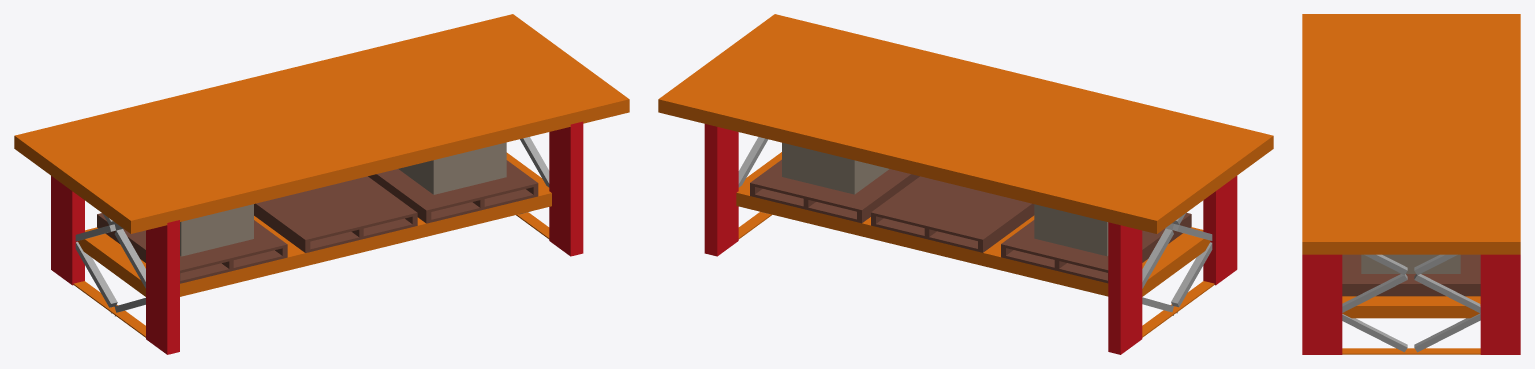
File: Rackes_SmalSmal 1.fbx
3 views of the same model, side by side, from view 1: azimuth 30°, elevation 25°; view 2: azimuth 150°, elevation 25°; view 3: azimuth 270°, elevation 25° (orthographic). The views are drawn at different scales.
Parts seen in each view (by area): view 1: Cube.126, Cube.127, Cube.133, Cube.130, Cube.125, Cube.132, Cube.122, Cube.134, Cube.138, Cube.135, Cube.131, Cube.129; view 2: Cube.126, Cube.127, Cube.130, Cube.133, Cube.125, Cube.132, Cube.122, Cube.134, Cube.138, Cube.135, Cube.131, Cube.129; view 3: Cube.127, Cube.126, Cube.122, Cube.132, Cube.131, Cube.130, Cube.138, Cube.137.
Part boxes in pixels (left/top/right/bottom): Cube.126: left=14, top=74, right=382, bottom=233; Cube.127: left=267, top=14, right=629, bottom=172; Cube.133: left=254, top=176, right=417, bottom=252; Cube.130: left=78, top=152, right=551, bottom=296; Cube.125: left=51, top=176, right=179, bottom=354; Cube.132: left=368, top=160, right=538, bottom=223; Cube.122: left=549, top=121, right=583, bottom=256; Cube.134: left=97, top=213, right=287, bottom=283; Cube.138: left=398, top=142, right=506, bottom=194; Cube.135: left=180, top=204, right=253, bottom=256; Cube.131: left=75, top=137, right=549, bottom=316; Cube.129: left=73, top=281, right=145, bottom=337; Cube.126: left=905, top=74, right=1273, bottom=233; Cube.127: left=658, top=14, right=1020, bottom=173; Cube.130: left=736, top=152, right=1210, bottom=296; Cube.133: left=871, top=176, right=1034, bottom=252; Cube.125: left=1108, top=176, right=1237, bottom=354; Cube.132: left=750, top=159, right=919, bottom=223; Cube.122: left=704, top=124, right=738, bottom=256; Cube.134: left=1001, top=212, right=1191, bottom=283; Cube.138: left=782, top=142, right=888, bottom=194; Cube.135: left=1034, top=204, right=1108, bottom=256; Cube.131: left=738, top=137, right=1212, bottom=315; Cube.129: left=1142, top=281, right=1214, bottom=337; Cube.127: left=1302, top=129, right=1520, bottom=254; Cube.126: left=1302, top=14, right=1520, bottom=129; Cube.122: left=1302, top=254, right=1520, bottom=354; Cube.132: left=1342, top=254, right=1480, bottom=296; Cube.131: left=1342, top=254, right=1480, bottom=352; Cube.130: left=1342, top=296, right=1480, bottom=318; Cube.138: left=1361, top=254, right=1460, bottom=273; Cube.137: left=1342, top=348, right=1480, bottom=354.
Bounding box in the file's own units: 1113 × 312 × 450.
